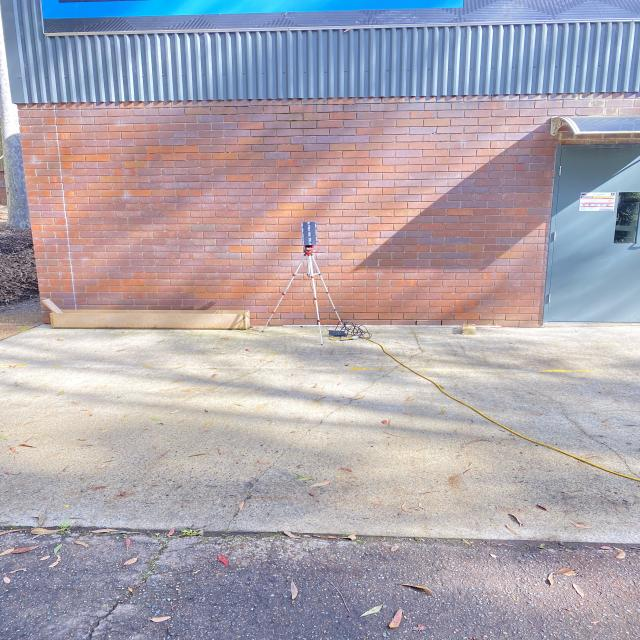matrix: (296, 218, 325, 249)
